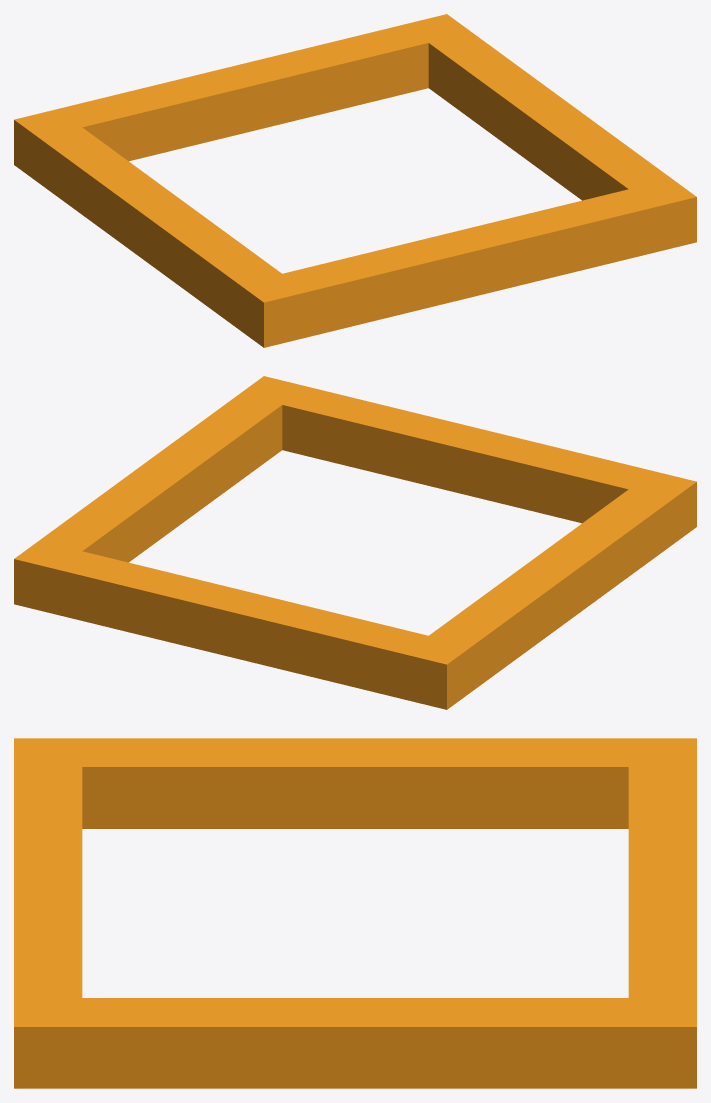
File: SM_Buildings_FloorHole_1x1_01.fbx
The picture shows the model from 3 angles, top to bottom: view 1: azimuth 30°, elevation 25°; view 2: azimuth 150°, elevation 25°; view 3: azimuth 270°, elevation 25°; orthographic projection. The views are drawn at different scales.
Parts seen in each view (by area): view 1: SM_Buildings_FloorHole_1x1_01; view 2: SM_Buildings_FloorHole_1x1_01; view 3: SM_Buildings_FloorHole_1x1_01.
Part boxes in pixels (left/top/right/bottom): SM_Buildings_FloorHole_1x1_01: left=14, top=14, right=696, bottom=347; SM_Buildings_FloorHole_1x1_01: left=14, top=376, right=696, bottom=709; SM_Buildings_FloorHole_1x1_01: left=14, top=738, right=696, bottom=1088.
Size of the model in its own units: 100 by 10 by 100.
